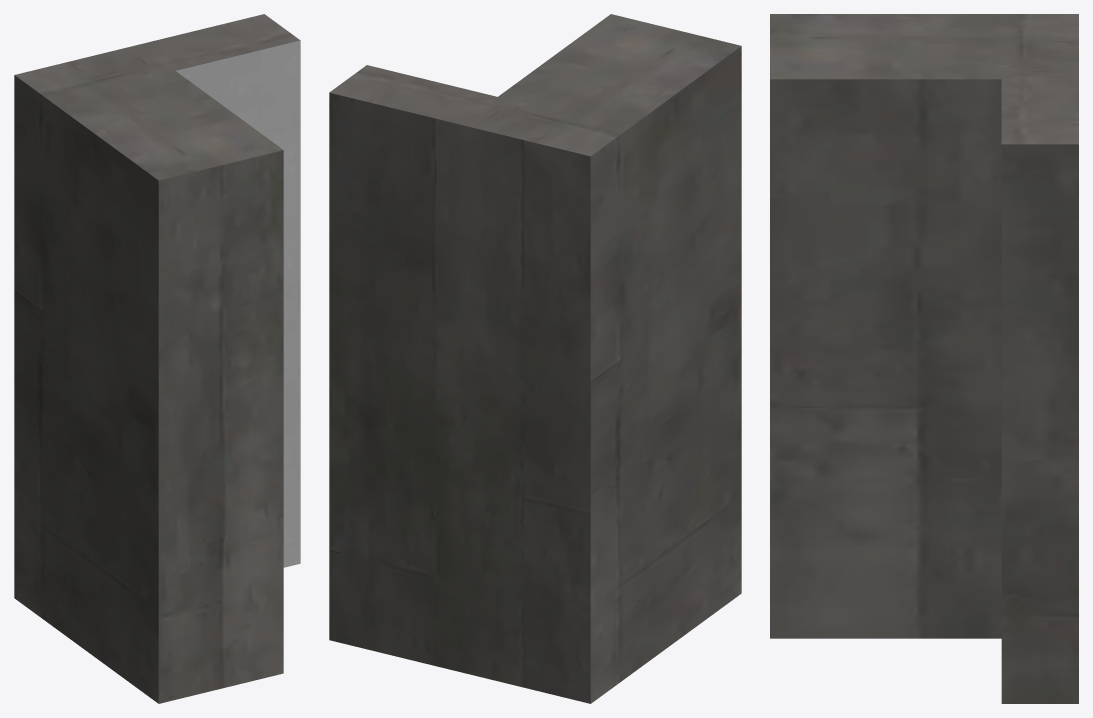
Rendered from flush_wall_100cm_001.glb.
The picture shows the model from 3 angles, left to right: view 1: azimuth 30°, elevation 25°; view 2: azimuth 150°, elevation 25°; view 3: azimuth 270°, elevation 25°; orthographic projection. The views are drawn at different scales.
Visible parts, largest first — view 1: flush.wall.100cm.001; view 2: flush.wall.100cm.001; view 3: flush.wall.100cm.001.
Boxes of the visible parts, <box> form: flush.wall.100cm.001: <box>14,14,300,703</box>; flush.wall.100cm.001: <box>329,14,741,703</box>; flush.wall.100cm.001: <box>770,14,1078,703</box>.
Bounding box in the file's own units: 0.5 × 1 × 0.5.
2 materials, 2 textured.
